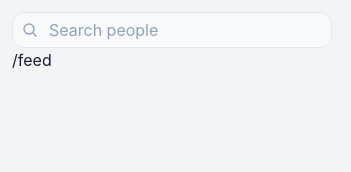
Test: UserSearch › navigates to a selected user profile and closes on outside click
Type "Hamza" into the dropdown labelled "Search people" at (172, 30), box [12, 12, 332, 48]
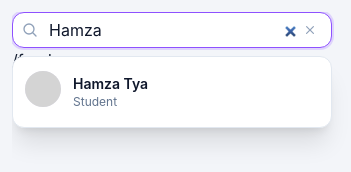
Click the option "Hamza Tya Student" at (43, 89), box [13, 61, 331, 123]
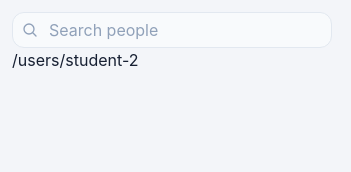
Expected: the text with test id "current-path" reads "/users/student-2", [12, 50, 138, 70]
Expected: the list is gone
